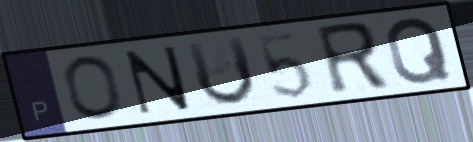5: (253, 29, 316, 100)
N: (122, 43, 194, 117)
O: (60, 54, 125, 122)
Q: (384, 14, 456, 87)
R: (312, 19, 394, 99)
U: (182, 33, 259, 109)
